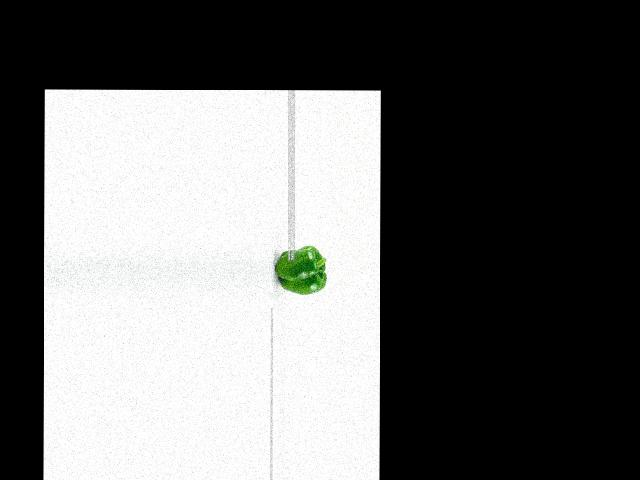bell_pepper: (273, 246, 329, 296)
